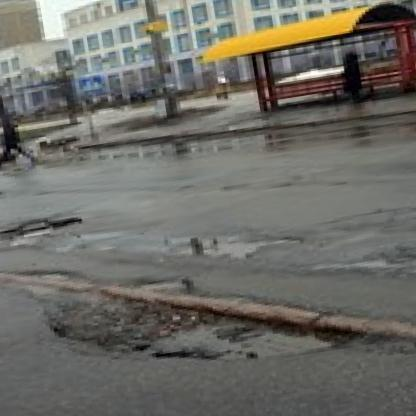pothole: (41, 246, 370, 397), (0, 212, 87, 245), (137, 274, 192, 302)
